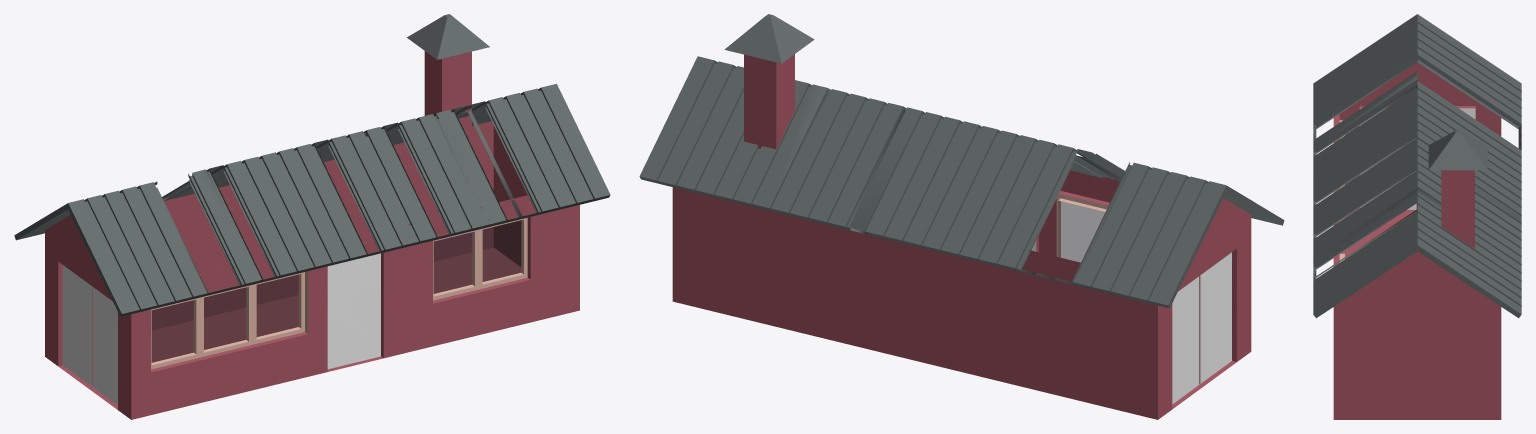
The model's file is 04 Broken_House.FBX.
3 renders of one model, left to right at view 1: azimuth 30°, elevation 25°; view 2: azimuth 150°, elevation 25°; view 3: azimuth 270°, elevation 25°, orthographic. The views are drawn at different scales.
Visible parts, largest first — view 1: Broken_House; view 2: Broken_House; view 3: Broken_House.
Part boxes in pixels (bbox=[...]): Broken_House: bbox=[14, 14, 610, 419]; Broken_House: bbox=[639, 14, 1284, 419]; Broken_House: bbox=[1313, 14, 1521, 419].
Size of the model in its own units: 6536 by 3378 by 2494.
